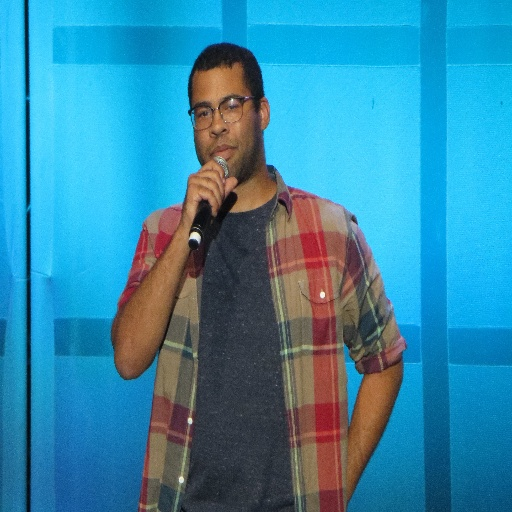hand: (173, 161, 226, 230)
